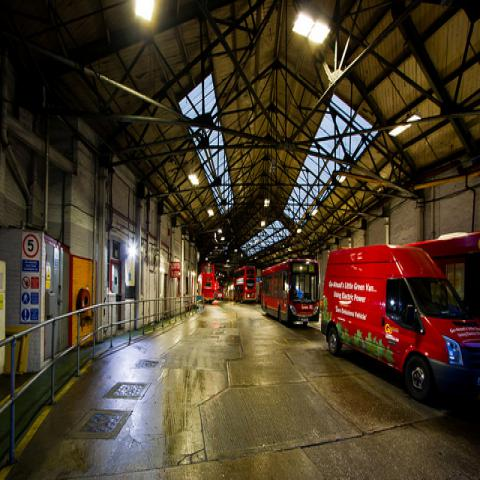bus: (260, 259, 320, 327), (233, 266, 257, 303), (198, 265, 214, 303)
truck: (320, 244, 480, 403)
